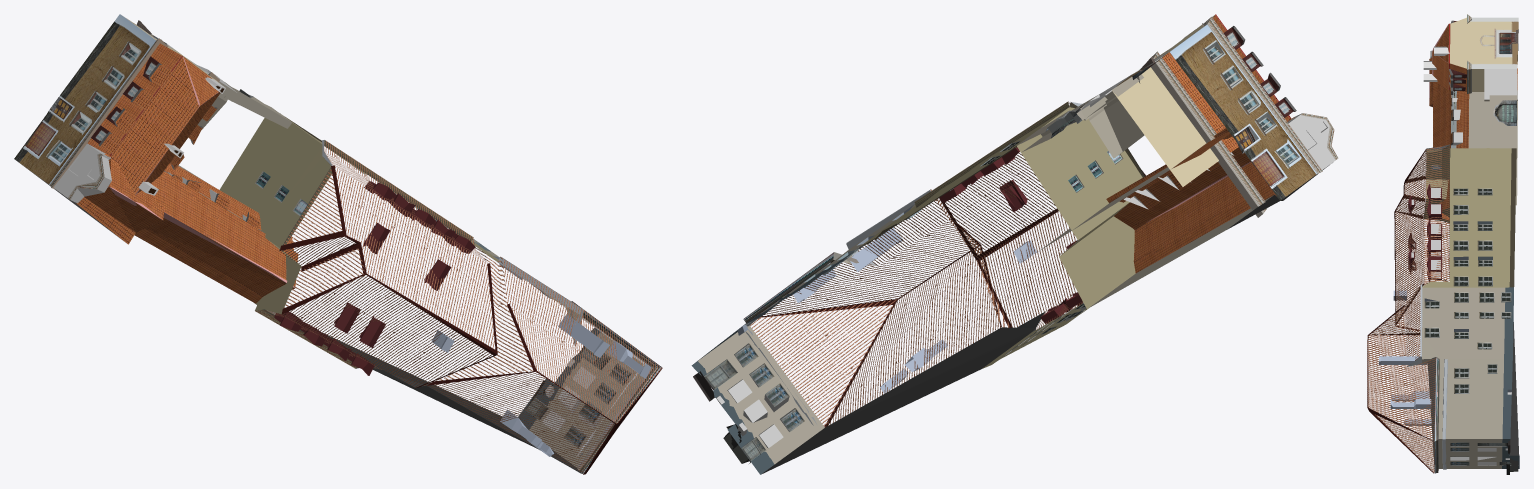
File: Lai-31-origo.obj
3 views of the same model, side by side, from view 1: azimuth 30°, elevation 25°; view 2: azimuth 150°, elevation 25°; view 3: azimuth 270°, elevation 25° (orthographic). The views are drawn at different scales.
Parts seen in each view (by area): view 1: Lai_31; view 2: Lai_31; view 3: Lai_31.
Part boxes in pixels (box(x1,y1,x2,y2)): Lai_31: box(14, 14, 662, 474); Lai_31: box(691, 14, 1338, 474); Lai_31: box(1367, 14, 1519, 474).
Bounding box in the file's own units: 59.5 × 50 × 20.73.
